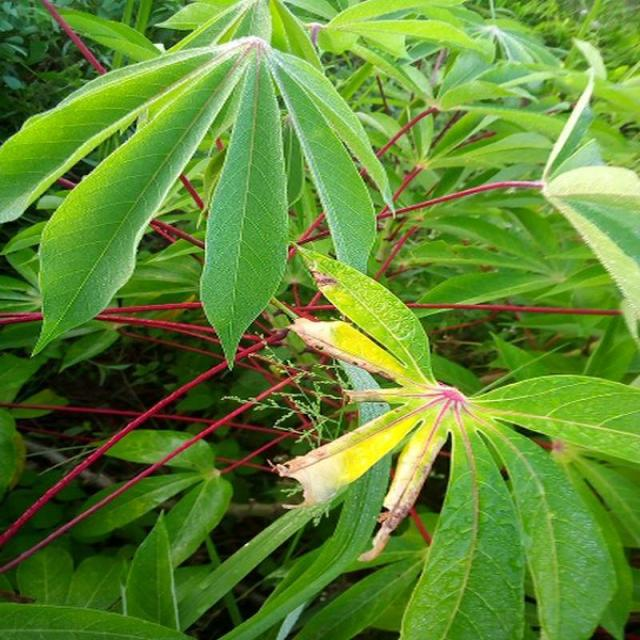cassava leaf: (276, 239, 638, 638), (6, 3, 394, 370)
